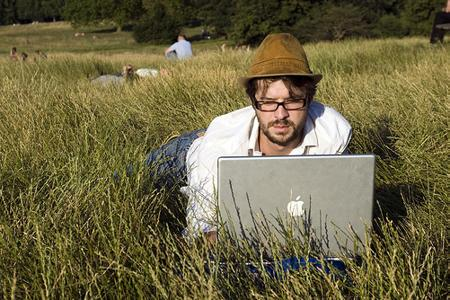person: (109, 32, 354, 257)
